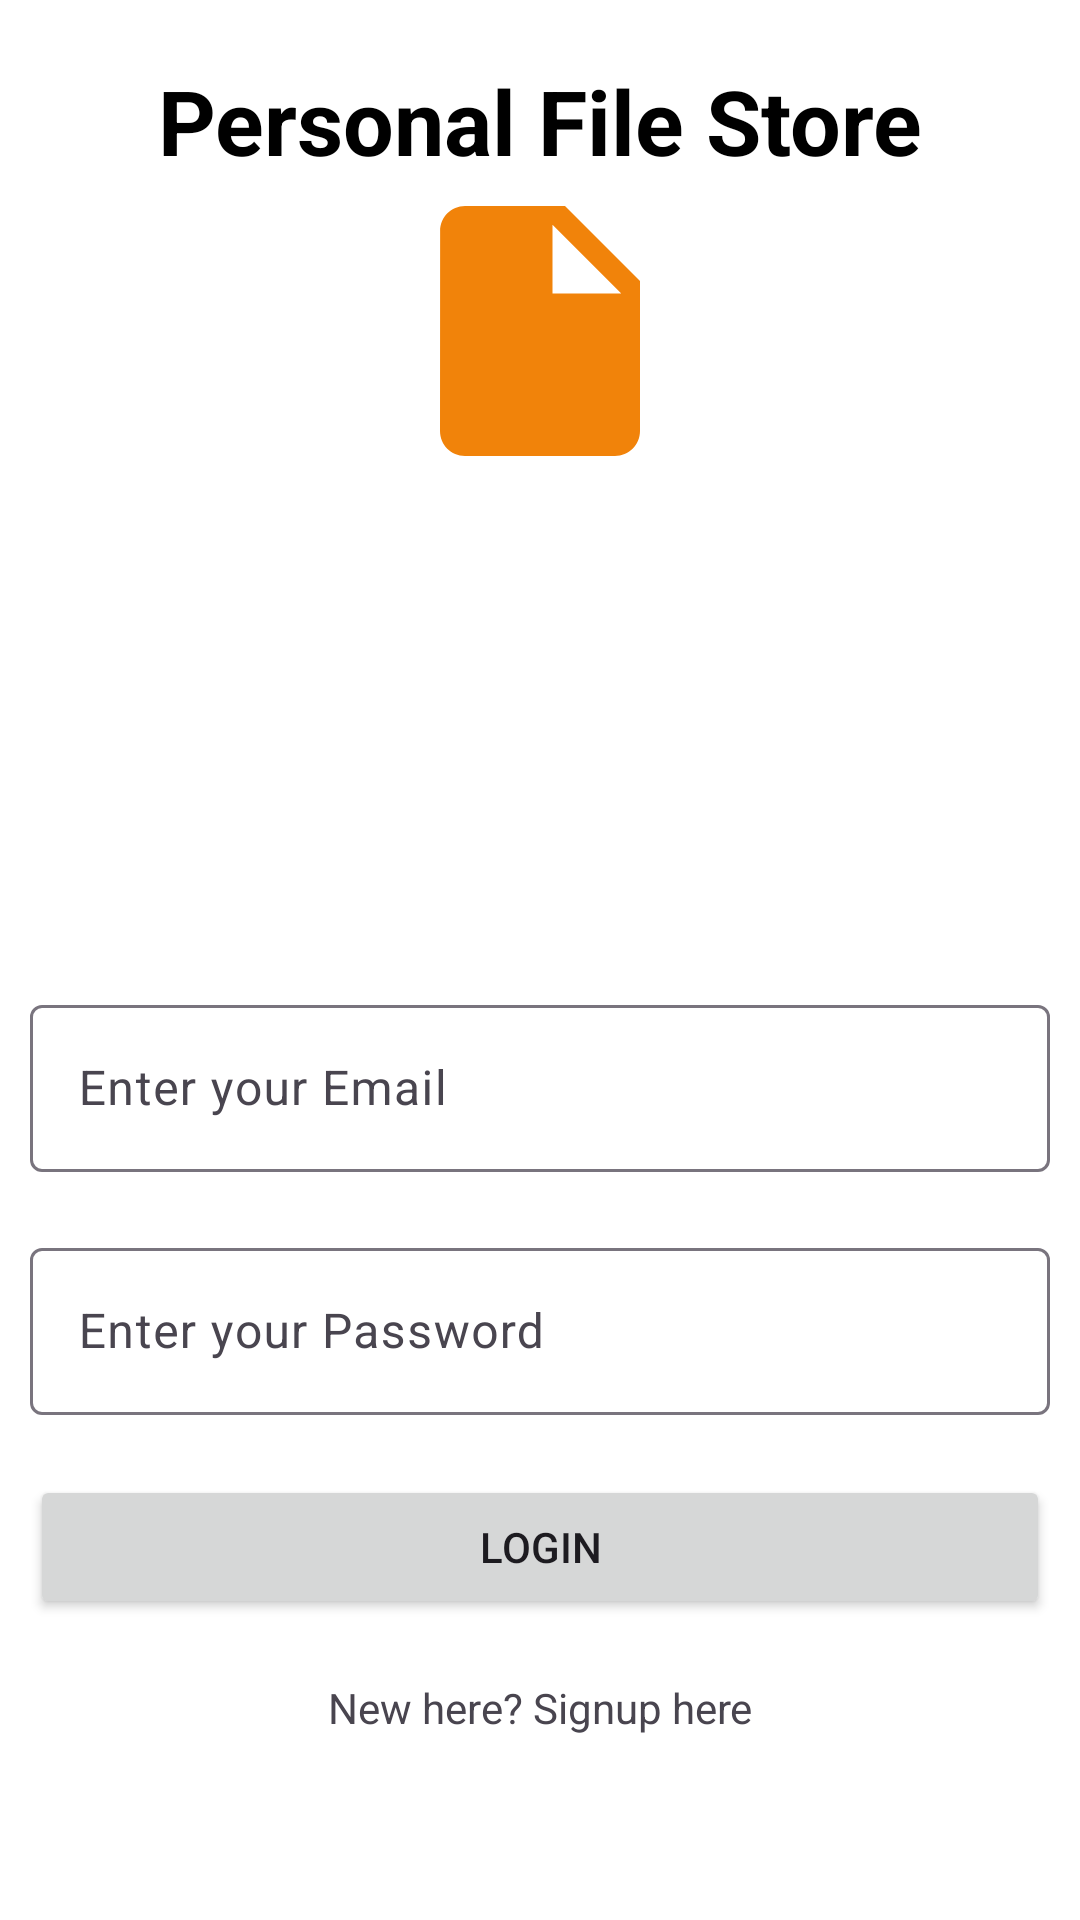

Point at icon controls on the screen. Image size 1080 × 1920, points as [x,y].
insert drive file: [540,331]
